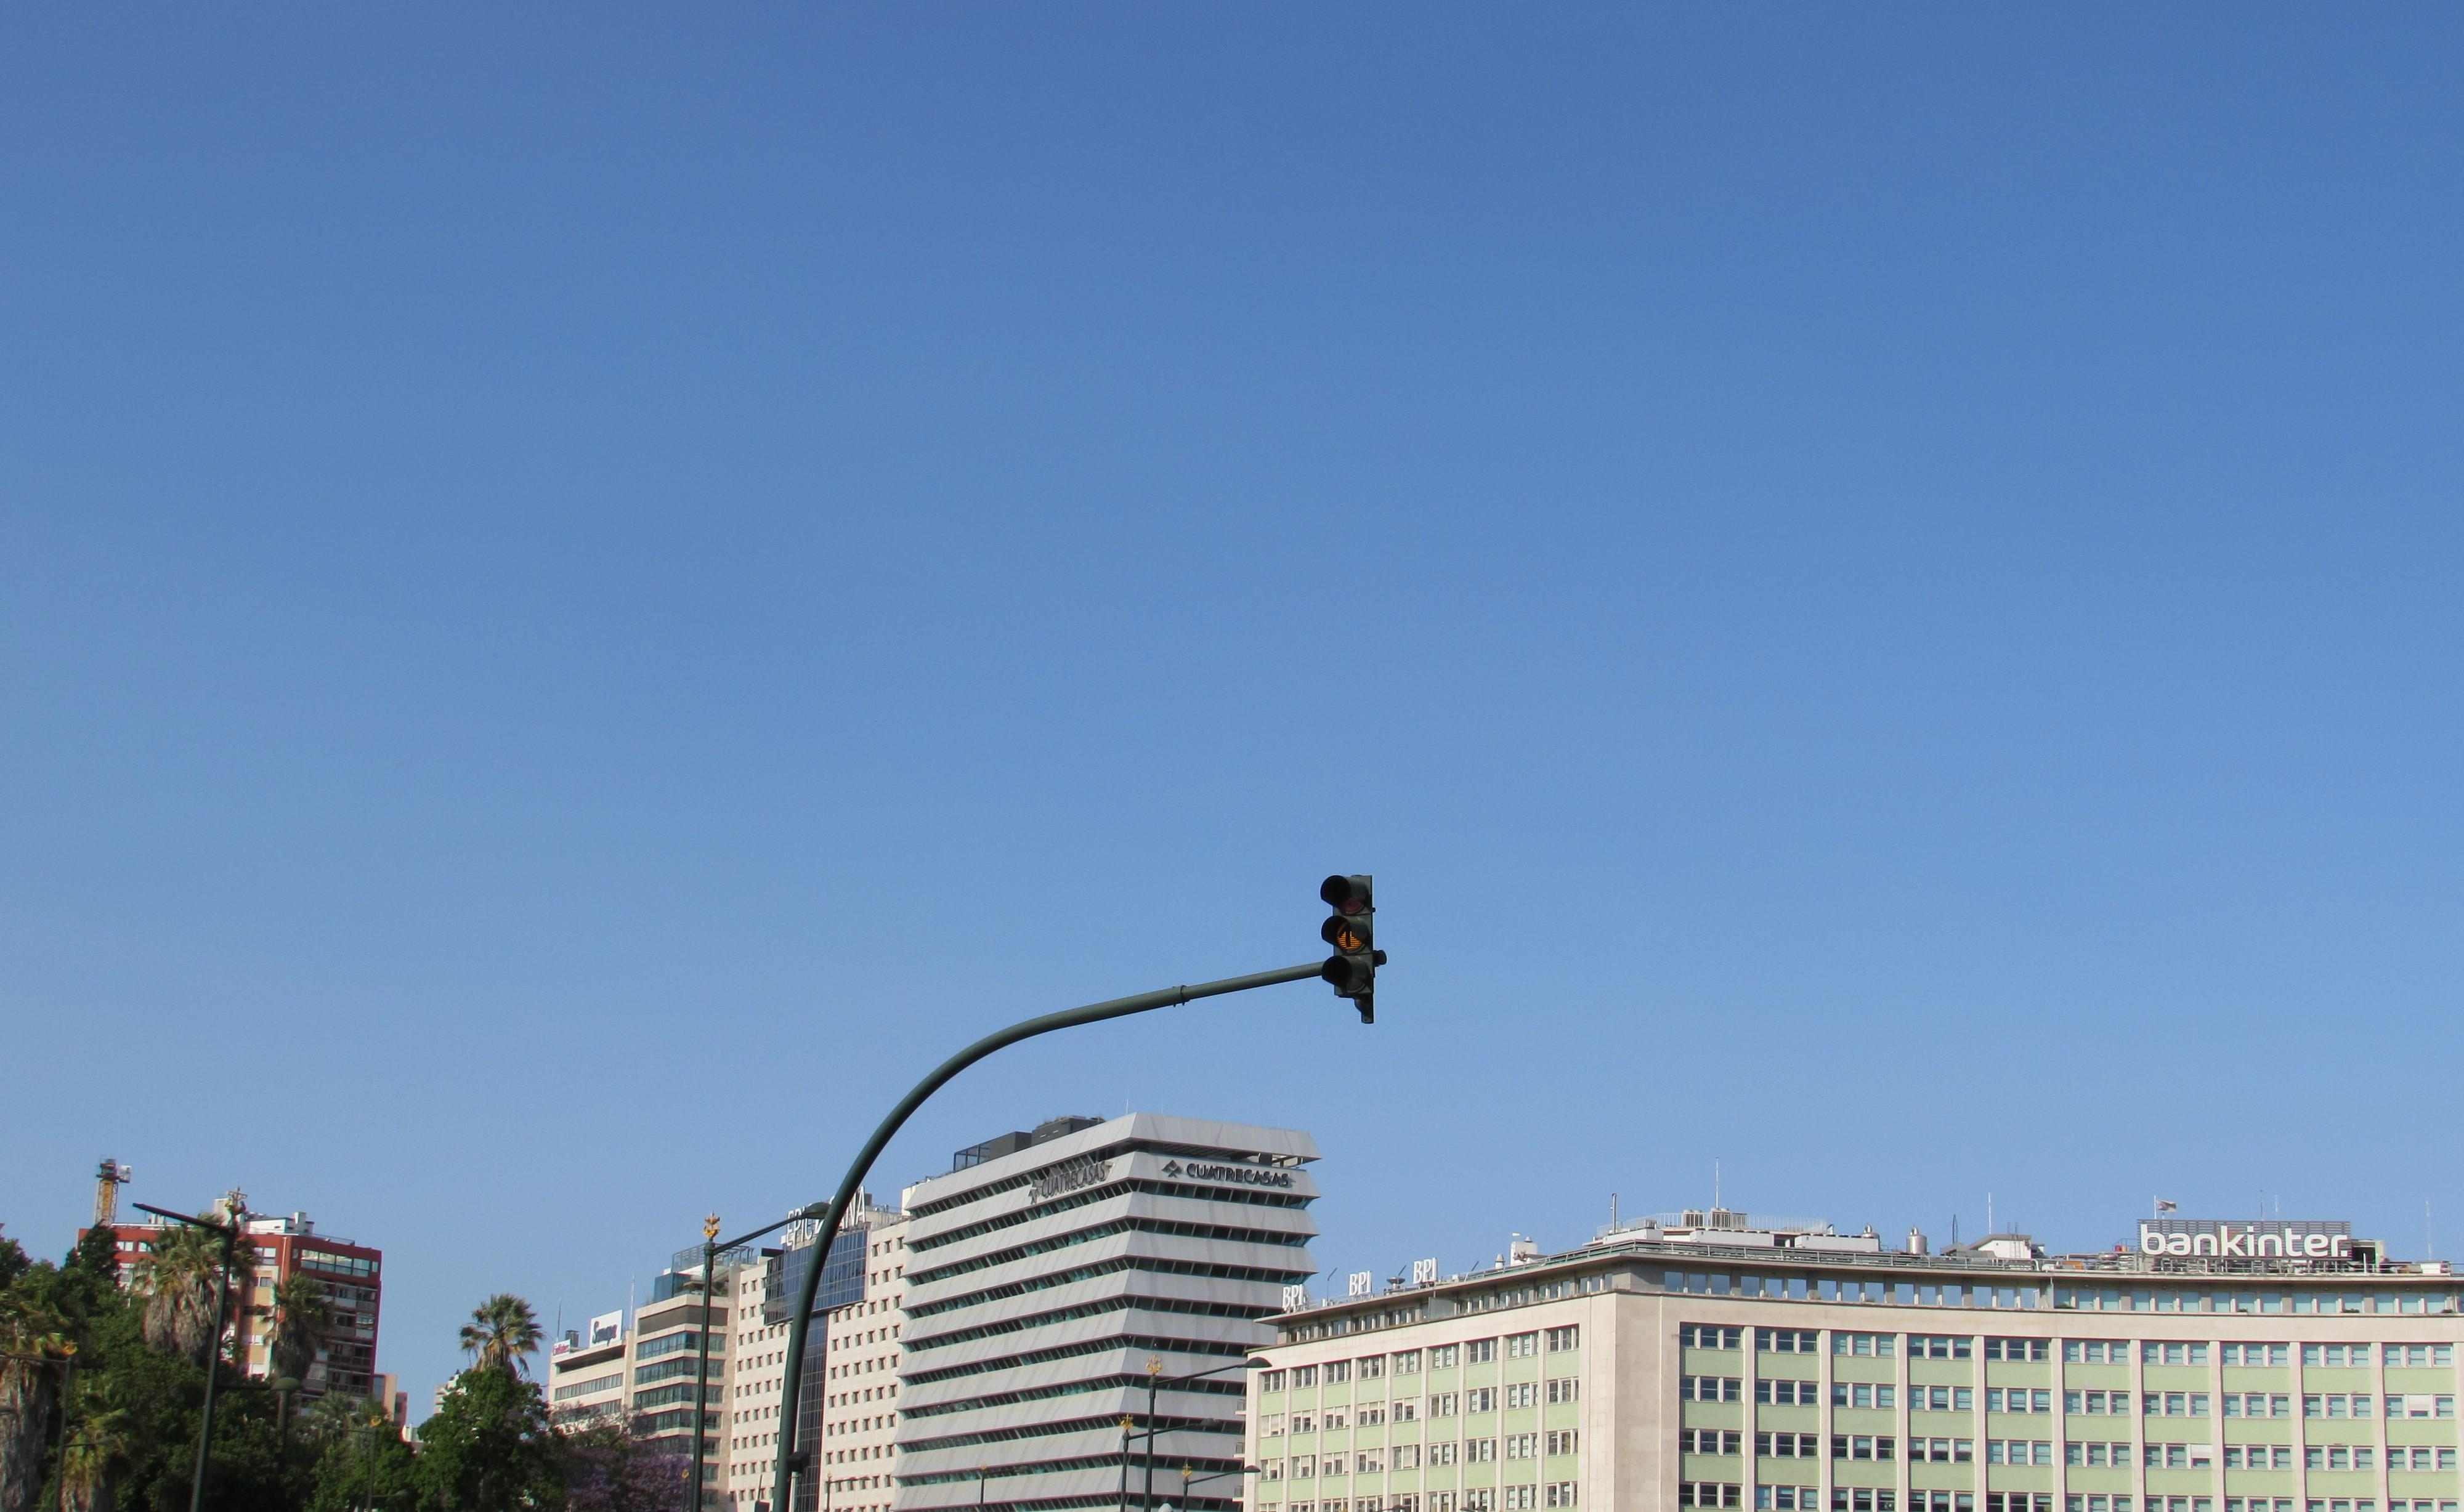yellow_light: (1320, 875, 1373, 998)
